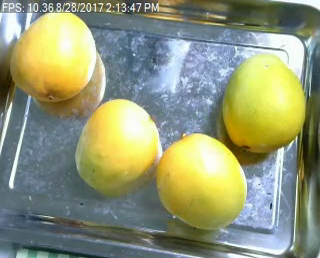Mango: (156, 132, 244, 230), (224, 53, 307, 152), (69, 98, 159, 188), (11, 7, 97, 100)
